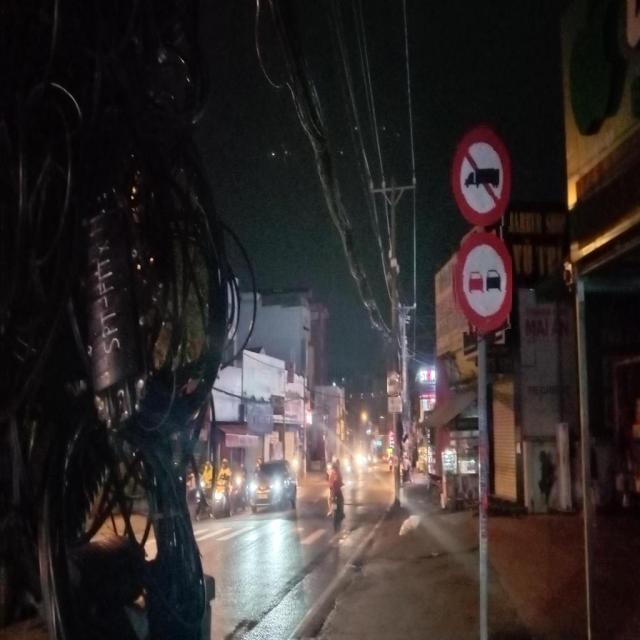106-cam-oto-tai: (388, 372, 402, 396)
125-cam-vuot: (452, 233, 512, 332)
